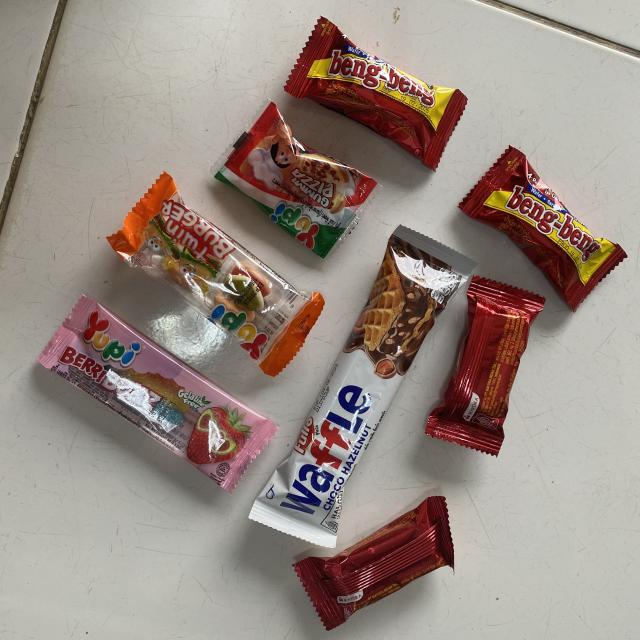plastik: (250, 226, 475, 548), (38, 296, 278, 491), (108, 172, 324, 376), (285, 18, 468, 170), (459, 146, 626, 311), (212, 102, 379, 258), (425, 276, 545, 455), (294, 496, 454, 630)
